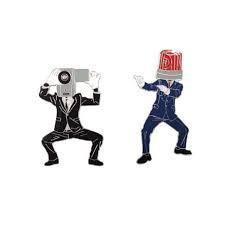no more kid: (54, 66, 91, 101)
